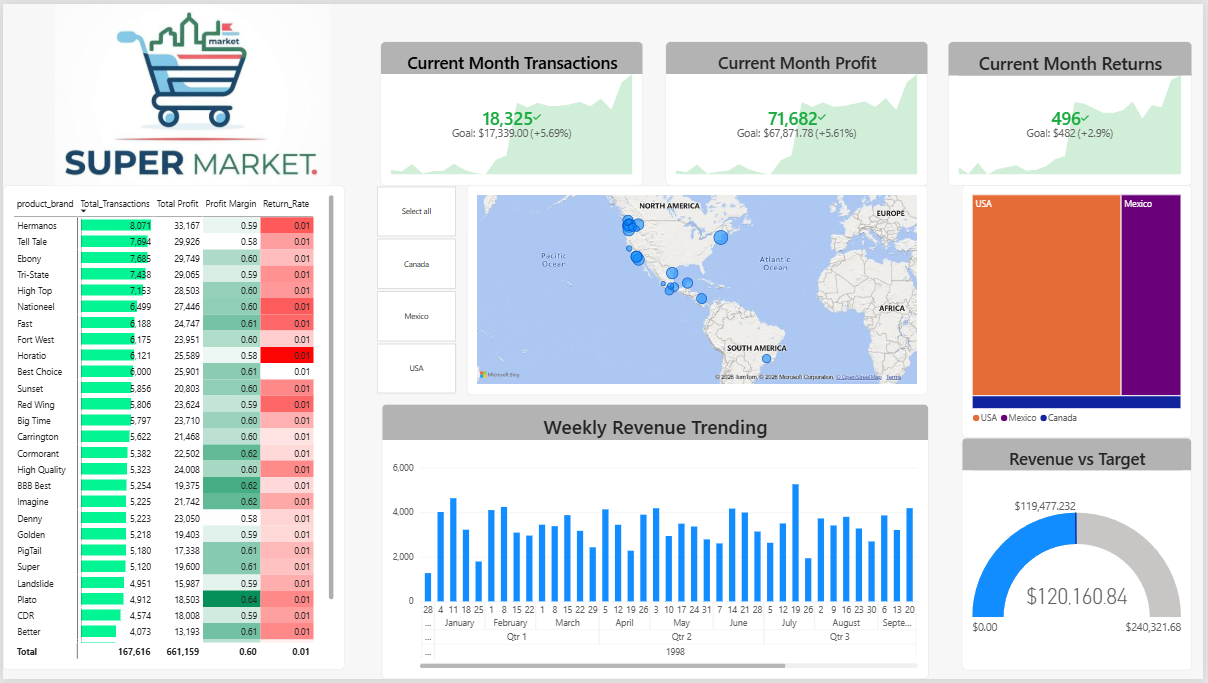

What the dashboard file says about the page in this screenshot:
{"tool":"powerbi","page":{"name":"Topline Performance","canvas":[1920,1080],"ordinal":0},"visuals":[{"type":"textbox","box":[10,580,280,280],"z":0},{"type":"pivotTable","fields":{"Rows":["Products.product_brand"],"Values":["Transaction_Data.Total_Transactions","Transaction_Data.Total Profit","Transaction_Data.Profit Margin","All Measures.Return_Rate"]},"box":[0,290,546.7,775],"z":2000},{"type":"kpi","title":"Current Month Transactions","fields":{"Goal":["Transaction_Data.Last Month Transactions"],"Indicator":["Transaction_Data.Total_Transactions"],"TrendLine":["Calendar.Start of Month"]},"box":[604,60,420,230],"z":3000},{"type":"kpi","title":"Current Month Profit","fields":{"Goal":["Transaction_Data.Last Month Profit"],"Indicator":["Transaction_Data.Total Profit"],"TrendLine":["Calendar.Start of Month"]},"box":[1060,60,420,230],"z":4000},{"type":"kpi","title":"Current Month Returns","fields":{"Goal":["Transaction_Data.Last Month Returns"],"Indicator":["Returns_Data.Total_Returns"],"TrendLine":["Calendar.Start of Month"]},"box":[1512,60,390,230],"z":5000},{"type":"map","fields":{"Category":["Stores.store_city"],"Size":["Transaction_Data.Total_Transactions"]},"box":[742.5,290,737.5,335],"z":6000},{"type":"slicer","fields":{"Values":["Stores.store_country"]},"box":[577.5,290,165,335],"z":7000},{"type":"treemap","fields":{"Group":["Stores.store_country","Stores.store_state","Stores.store_city"],"Values":["Transaction_Data.Total_Transactions"]},"box":[1534,290,368,404],"z":8000},{"type":"clusteredColumnChart","title":"Weekly Revenue Trending","fields":{"Category":["Calendar.Start of Week.Variation.Date Hierarchy.Year","Calendar.Start of Week.Variation.Date Hierarchy.Quarter","Calendar.Start of Week.Variation.Date Hierarchy.Month","Calendar.Start of Week.Variation.Date Hierarchy.Day"],"Y":["Transaction_Data.Total_Transactions"]},"box":[605,640,875,440],"z":9000},{"type":"gauge","title":"Revenue vs Target","fields":{"TargetValue":["Transaction_Data.Revenue Target"],"Y":["Transaction_Data.Total Revenue"]},"box":[1534,694,368,372],"z":9001},{"type":"image","box":[10,18,536,258],"z":9002}]}

Visuals, with their boxes in screenshot pixels (x1, y1, x2, y2), scaled from the page's 1920x1080 canvas onto the 1208x683 screenshot:
textbox: bbox=[6, 367, 182, 544]
pivotTable - Products.product_brand x Transaction_Data.Total_Transactions: bbox=[0, 183, 344, 674]
"Current Month Transactions" kpi: bbox=[380, 38, 644, 183]
"Current Month Profit" kpi: bbox=[667, 38, 931, 183]
"Current Month Returns" kpi: bbox=[951, 38, 1197, 183]
map - Stores.store_city x Transaction_Data.Total_Transactions: bbox=[467, 183, 931, 395]
slicer - Stores.store_country: bbox=[363, 183, 467, 395]
treemap - Stores.store_country x Stores.store_state: bbox=[965, 183, 1197, 439]
"Weekly Revenue Trending" clusteredColumnChart: bbox=[381, 405, 931, 682]
"Revenue vs Target" gauge: bbox=[965, 439, 1197, 674]
image: bbox=[6, 11, 344, 175]
